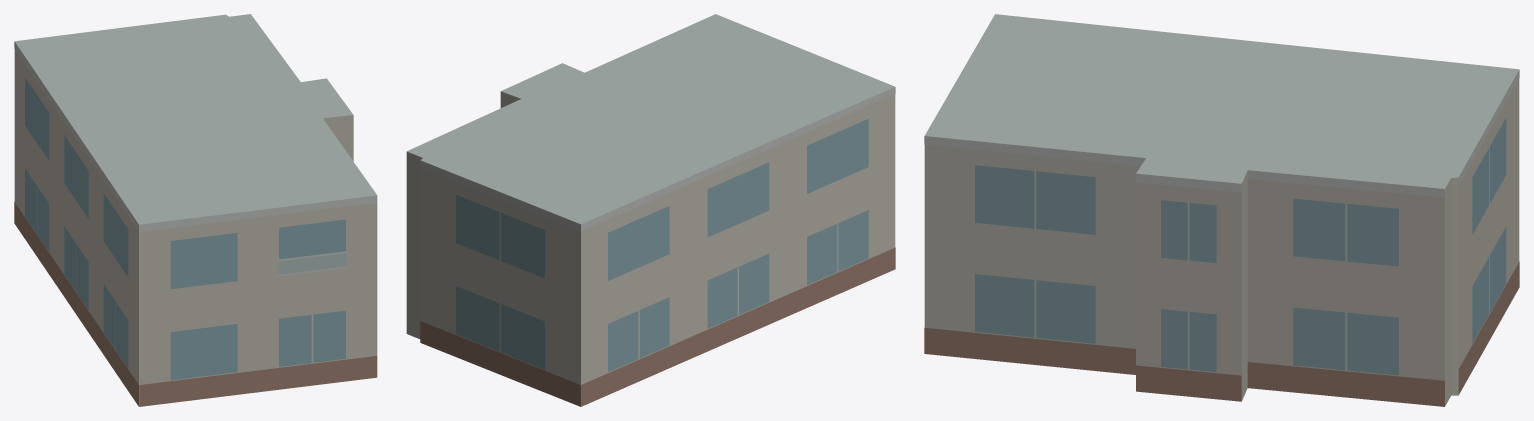
Rendered from survey-upis-32973633.glb.
The picture shows the model from 3 angles, left to right: view 1: azimuth 30°, elevation 25°; view 2: azimuth 150°, elevation 25°; view 3: azimuth 270°, elevation 25°; orthographic projection. The views are drawn at different scales.
Visible parts, largest first — view 1: survey-upis-32973633.tmp; view 2: survey-upis-32973633.tmp; view 3: survey-upis-32973633.tmp.
Part boxes in pixels (bbox=[...]): survey-upis-32973633.tmp: bbox=[14, 14, 377, 406]; survey-upis-32973633.tmp: bbox=[406, 14, 895, 406]; survey-upis-32973633.tmp: bbox=[924, 14, 1519, 406].
Bounding box in the file's own units: 10.52 × 6.1 × 15.11.
